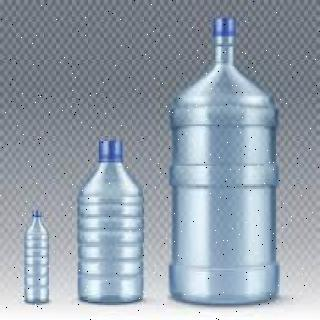Plastic-bottle: (21, 205, 56, 309)
